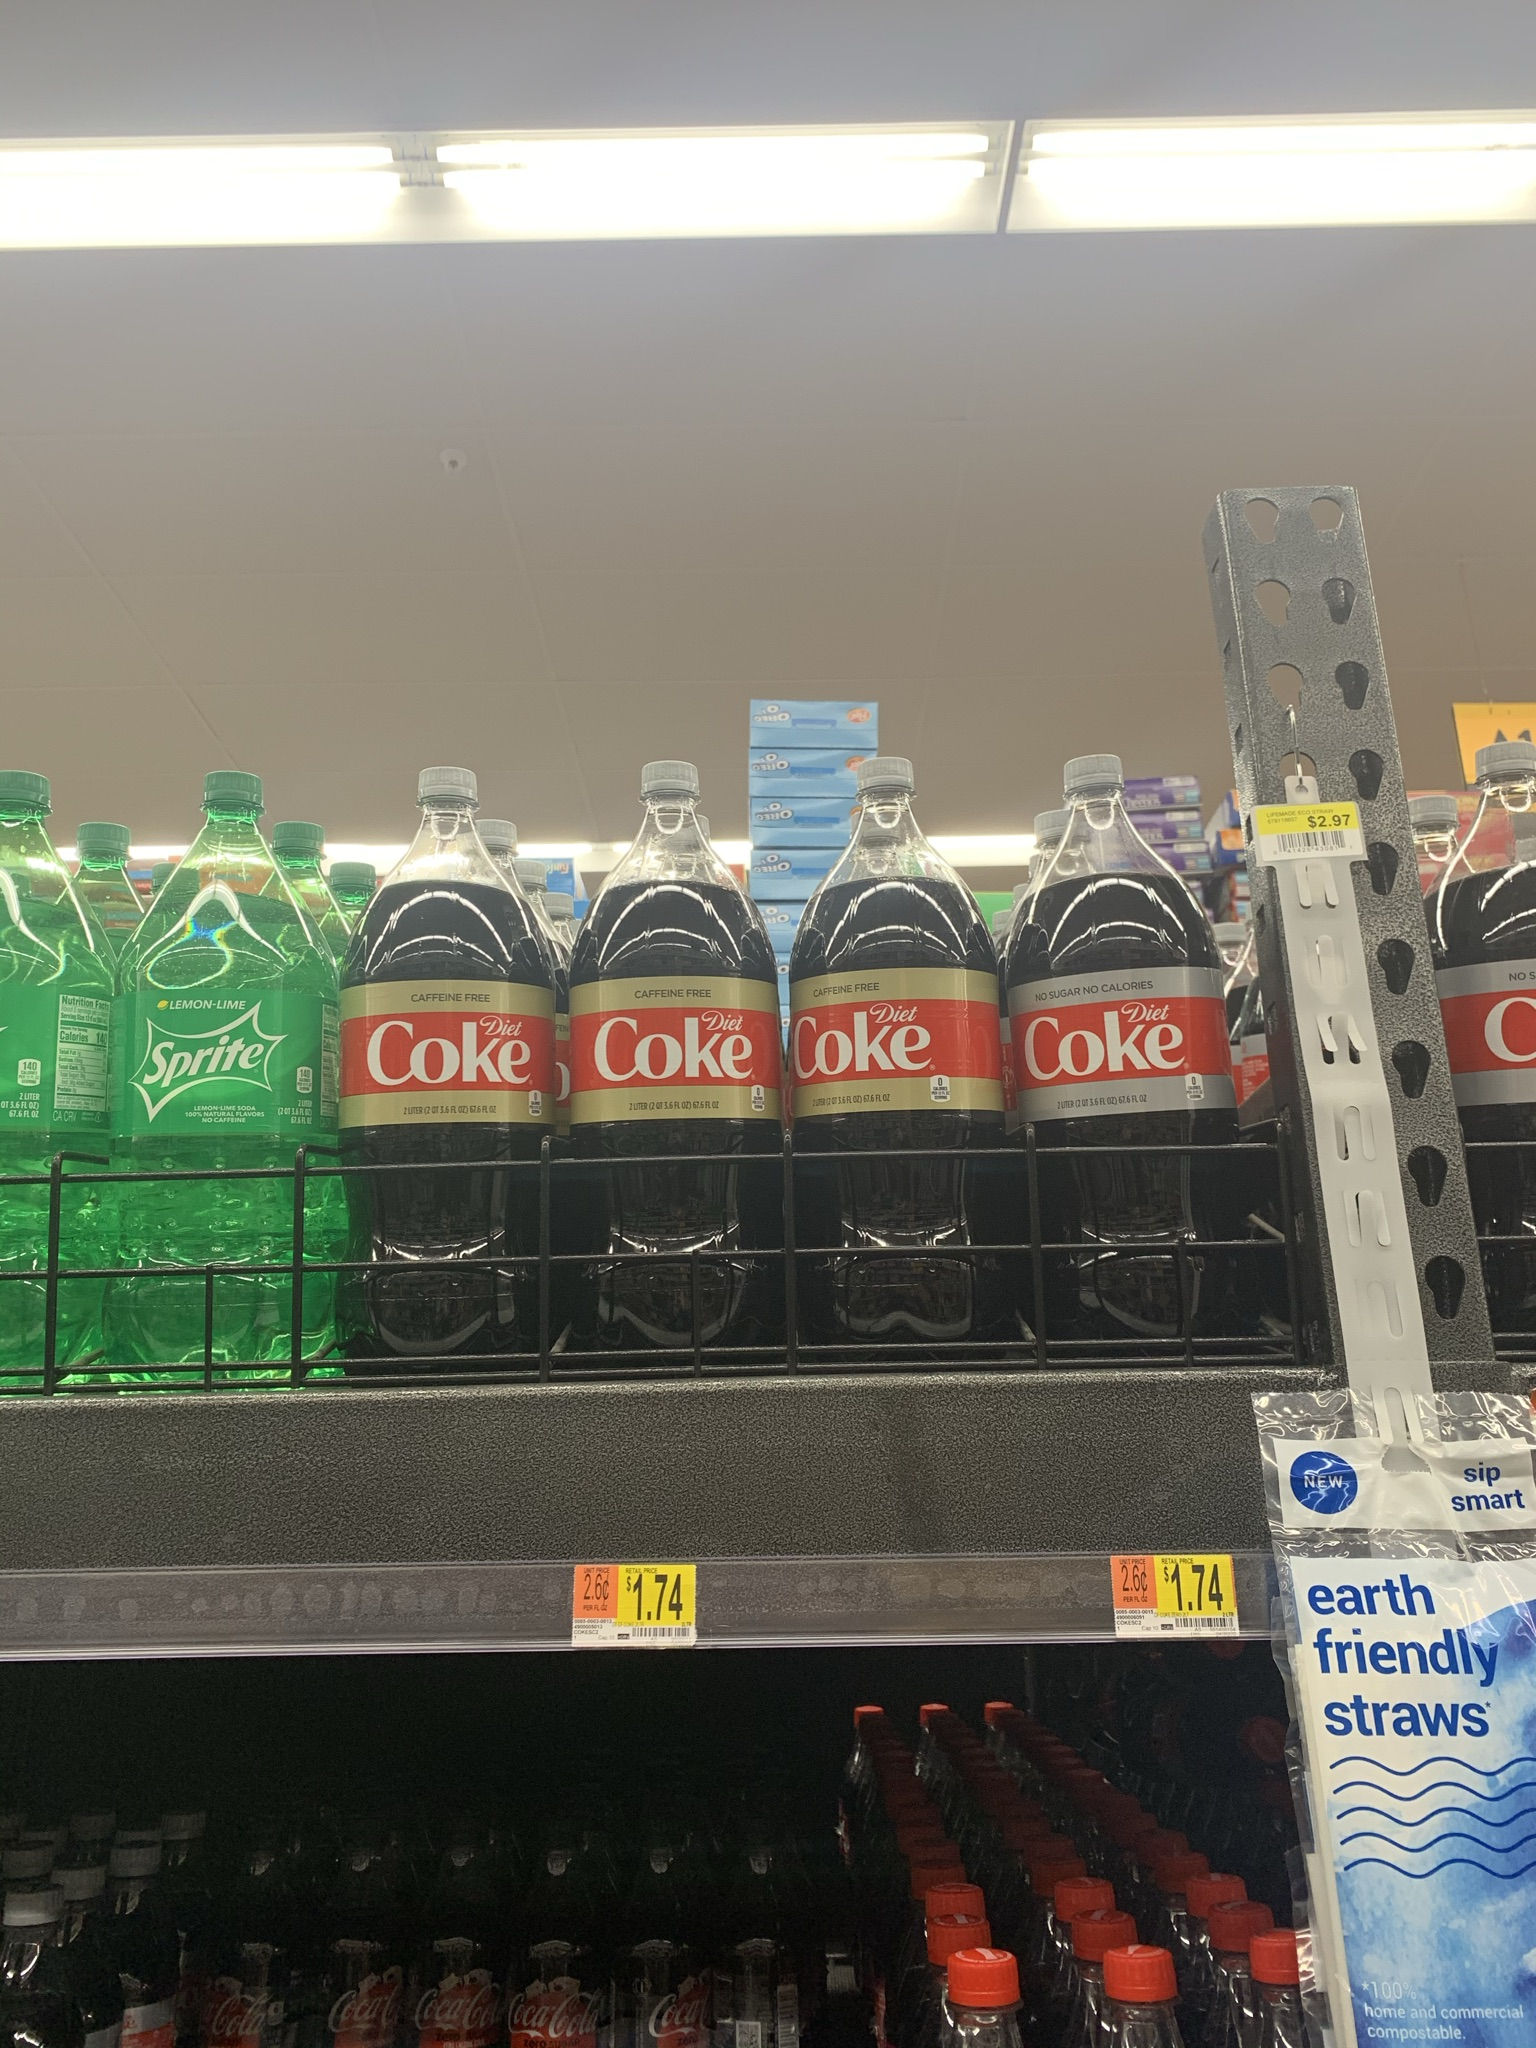coke soda: (1028, 761, 1263, 1319), (803, 764, 1004, 1309), (378, 760, 553, 1351), (603, 764, 774, 1343)
sprite soda: (3, 766, 192, 1364), (189, 779, 347, 1371)
